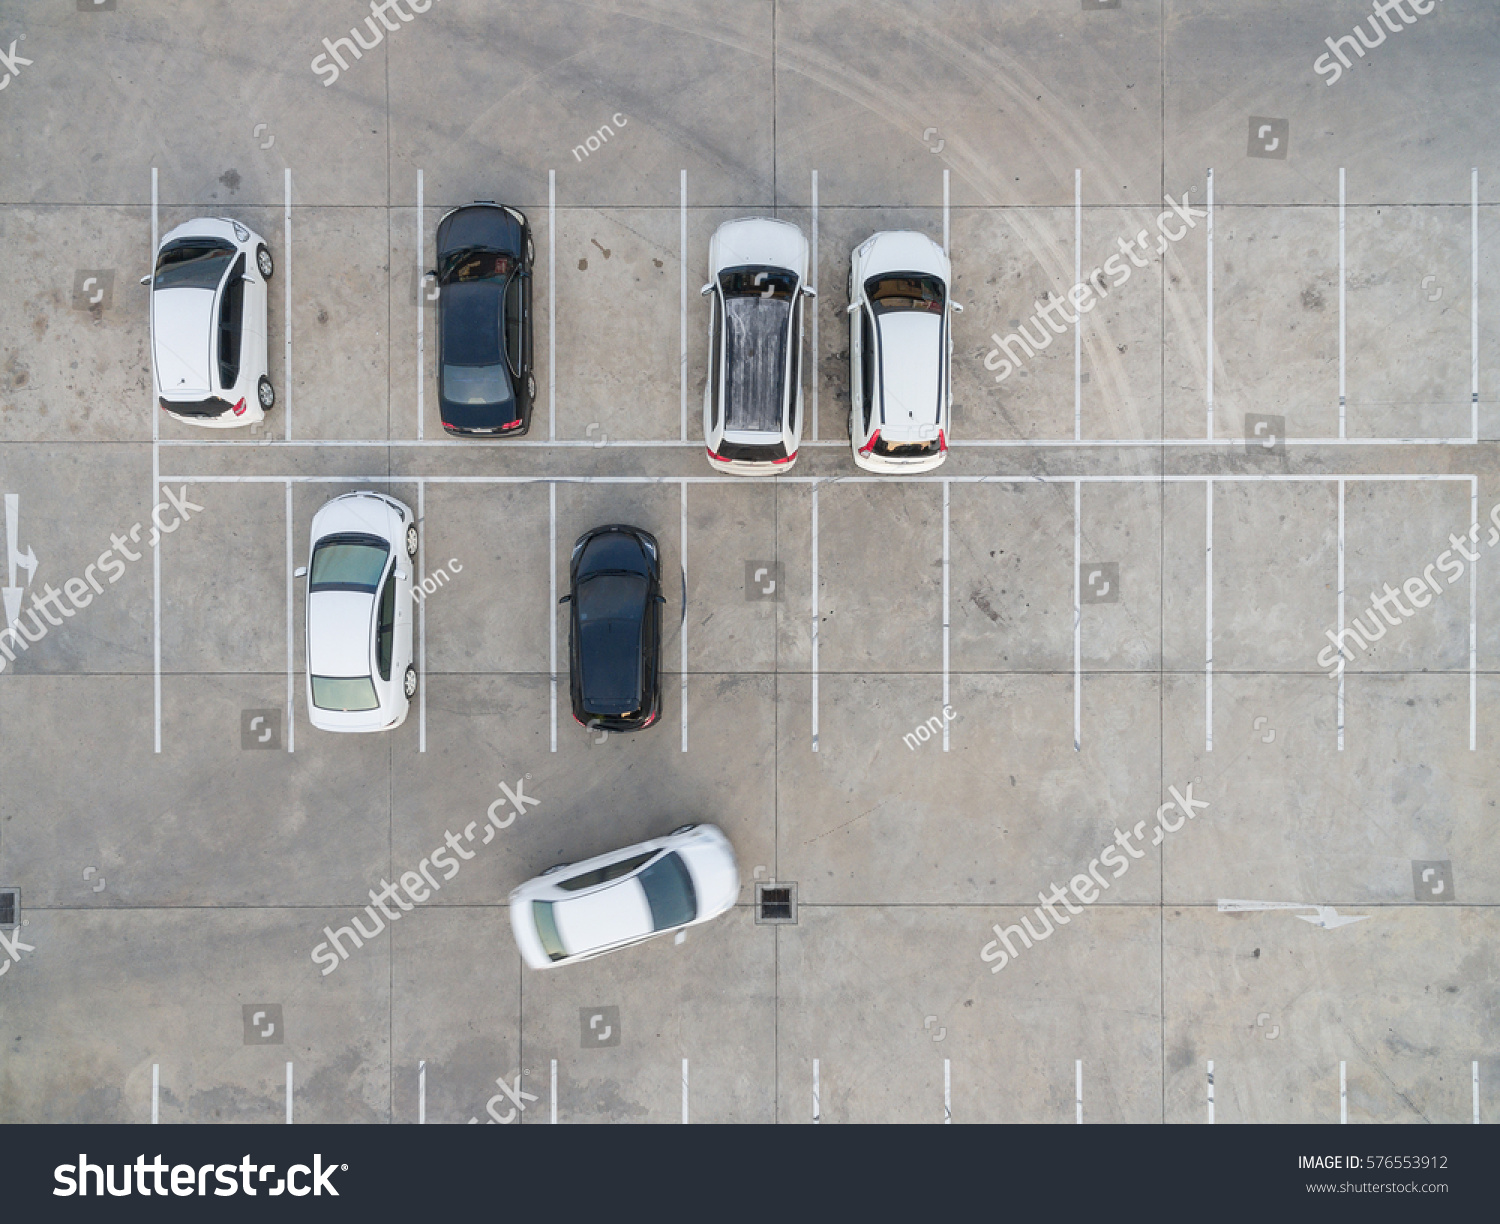Car: (502, 819, 750, 975), (694, 212, 817, 482), (843, 223, 959, 482), (304, 490, 424, 740), (150, 203, 278, 433)
LaneMark: (152, 472, 1476, 484), (150, 162, 161, 762), (168, 437, 693, 449), (1333, 166, 1354, 440), (1461, 486, 1483, 757), (1202, 170, 1222, 449), (1200, 479, 1218, 762), (1468, 170, 1485, 444), (676, 160, 693, 447), (934, 477, 951, 760), (1070, 481, 1086, 752), (1336, 479, 1350, 764), (282, 162, 297, 442), (1070, 168, 1085, 447), (546, 479, 561, 757), (411, 166, 426, 440), (807, 472, 820, 769), (809, 166, 820, 449), (678, 479, 689, 758), (548, 170, 557, 444), (807, 1049, 826, 1132), (937, 1051, 956, 1129), (1333, 1049, 1350, 1129), (280, 1054, 298, 1127), (1071, 1049, 1086, 1129), (546, 1053, 563, 1121), (941, 168, 954, 253), (148, 1059, 164, 1126), (415, 1053, 430, 1123), (678, 1053, 691, 1129), (1206, 1051, 1217, 1131), (1473, 1049, 1481, 1126)
